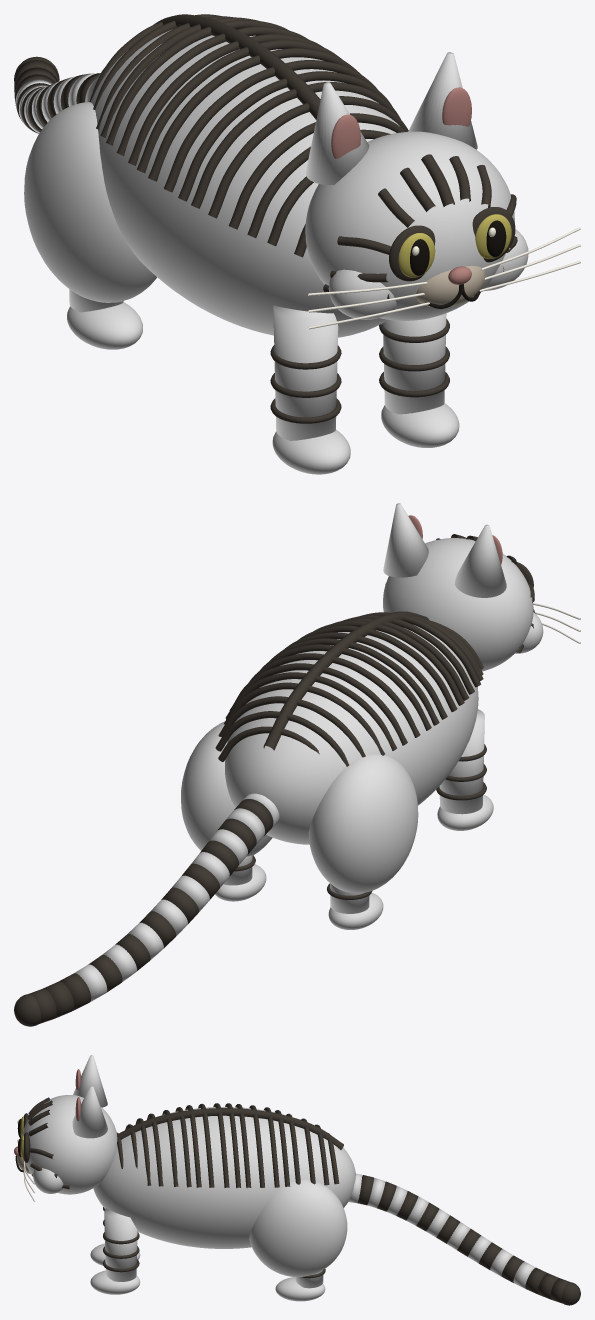
File: 無標題.glb
3 renders of one model, top to bottom at view 1: azimuth 30°, elevation 25°; view 2: azimuth 150°, elevation 25°; view 3: azimuth 270°, elevation 25°, orthographic. The views are drawn at different scales.
Parts seen in each view (by area): view 1: 圓滾滾貓身, 虎斑貓頭, 左後腿大腿, 左前腳, 右前腳, 左耳, 左後掌, 背脊深色中線, 左前掌, 右前掌, 右耳, 身體橫紋8 (+28 smaller); view 2: 圓滾滾貓身, 左後腿大腿, 虎斑貓頭, 右後腿大腿, 左耳, 左前腳, 背脊深色中線, 右耳, 身體橫紋13, 身體橫紋14, 身體橫紋12, 身體橫紋11 (+16 smaller); view 3: 圓滾滾貓身, 右後腿大腿, 虎斑貓頭, 右前腳, 背脊深色中線, 右耳, 右後掌, 左耳, 右前掌, 右臉頰, 身體橫紋10, 身體橫紋9 (+31 smaller).
Part boxes in pixels (x1,y1,x2,y2): 圓滾滾貓身: (87, 29, 400, 337); 虎斑貓頭: (305, 131, 514, 320); 左後腿大腿: (24, 102, 156, 302); 左前腳: (273, 305, 338, 440); 右前腳: (383, 313, 446, 414); 左耳: (305, 82, 369, 184); 左後掌: (67, 302, 142, 349); 背脊深色中線: (153, 14, 320, 119); 左前掌: (272, 429, 350, 474); 右前掌: (381, 403, 459, 447); 右耳: (408, 52, 477, 149); 身體橫紋8: (164, 60, 377, 192); 圓滾滾貓身: (225, 625, 478, 844); 左後腿大腿: (308, 754, 418, 893); 虎斑貓頭: (383, 538, 533, 671); 右後腿大腿: (181, 721, 272, 856); 左耳: (454, 524, 506, 597); 左前腳: (439, 709, 484, 814); 背脊深色中線: (263, 611, 429, 750); 右耳: (383, 503, 428, 577); 身體橫紋13: (229, 663, 407, 745); 身體橫紋14: (225, 672, 396, 750); 身體橫紋12: (249, 653, 420, 737); 身體橫紋11: (260, 644, 431, 730); 圓滾滾貓身: (93, 1107, 355, 1248); 右後腿大腿: (249, 1179, 347, 1276); 虎斑貓頭: (22, 1095, 117, 1194); 右前腳: (104, 1208, 137, 1281); 背脊深色中線: (117, 1108, 343, 1149); 右耳: (72, 1086, 107, 1138); 右後掌: (275, 1277, 325, 1301); 左耳: (73, 1055, 107, 1107); 右前掌: (90, 1270, 140, 1294); 右臉頰: (33, 1168, 63, 1193); 身體橫紋10: (225, 1103, 240, 1188); 身體橫紋9: (213, 1103, 229, 1187).
Size of what is drawn, in the model's own units: 1.2 by 1.56 by 3.86.
